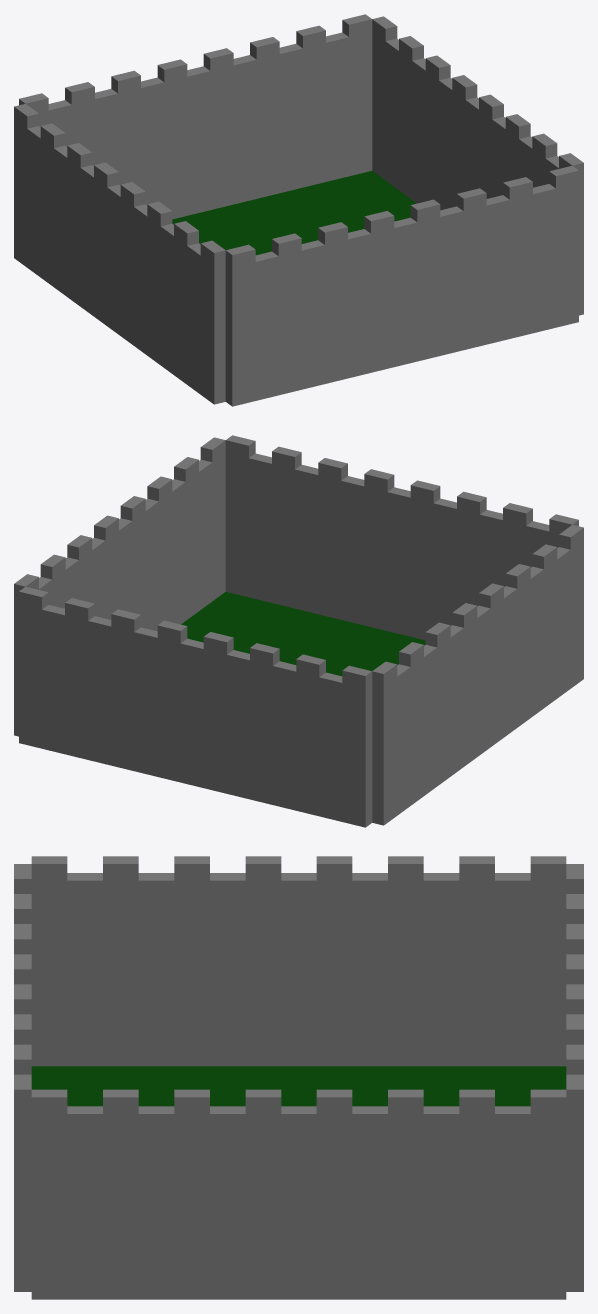
Rendered from goon_boss_arena.fbx.
The picture shows the model from 3 angles, top to bottom: view 1: azimuth 30°, elevation 25°; view 2: azimuth 150°, elevation 25°; view 3: azimuth 270°, elevation 25°; orthographic projection. The views are drawn at different scales.
Visible parts, largest first — view 1: walls, floor; view 2: walls, floor; view 3: walls, floor.
Part boxes in pixels (x1,y1,x2,y2): walls: (14,14,583,406); floor: (172,171,416,255); walls: (14,435,583,827); floor: (181,592,425,676); walls: (14,856,583,1299); floor: (31,1066,566,1106).
Bounding box in the file's own units: 6400 × 6400 × 2506.
